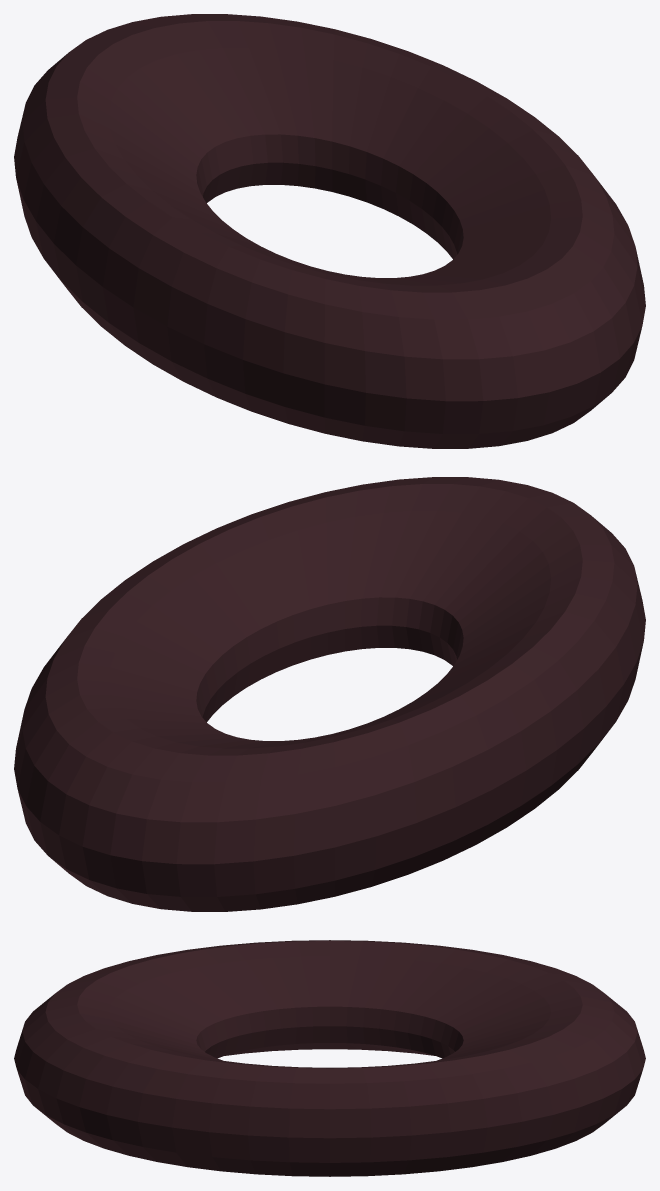
The model's file is Olive.fbx.
3 views of the same model, one above another, from view 1: azimuth 30°, elevation 25°; view 2: azimuth 150°, elevation 25°; view 3: azimuth 270°, elevation 25° (orthographic). The views are drawn at different scales.
Parts seen in each view (by area): view 1: Torus; view 2: Torus; view 3: Torus.
Part boxes in pixels (x1,y1,x2,y2): Torus: (14,14,645,448); Torus: (14,477,645,911); Torus: (14,940,645,1176).
Bounding box in the file's own units: 0.6669 × 0.2095 × 1.12.
